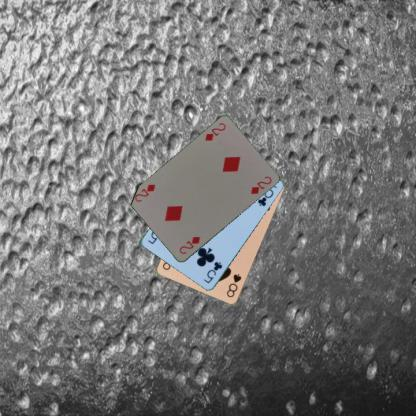2d: (202, 120, 227, 143), (176, 234, 202, 255)
5c: (201, 259, 224, 285)
8s: (224, 272, 243, 298)
